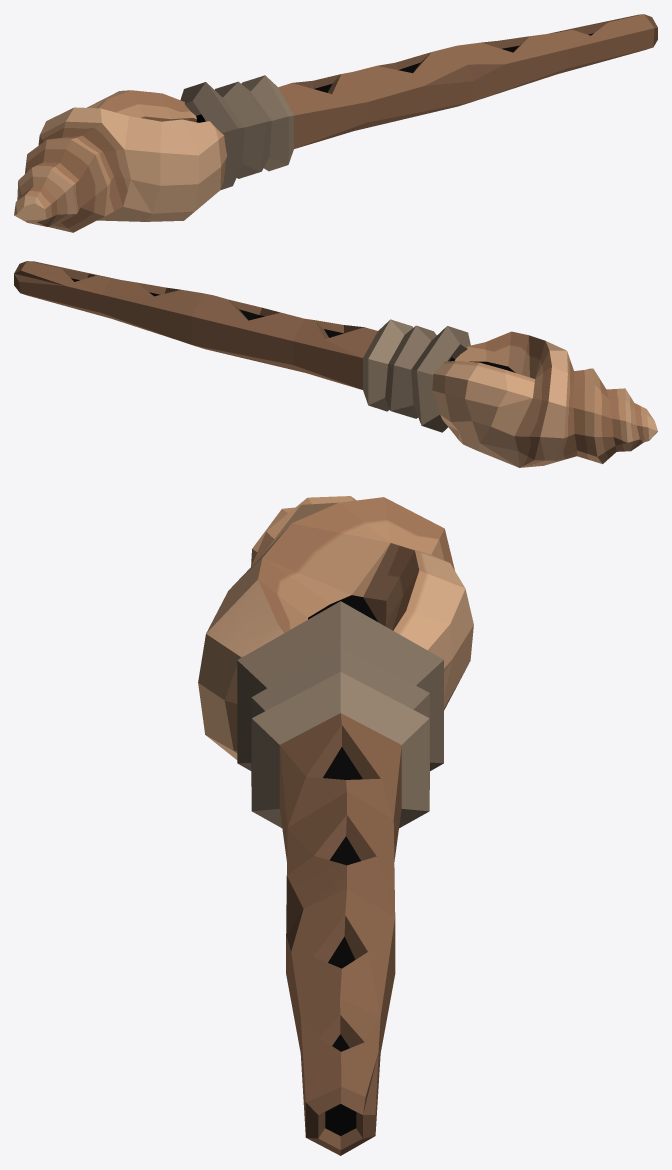
Rendered from SM_Prop_Flute_02.fbx.
The picture shows the model from 3 angles, top to bottom: view 1: azimuth 30°, elevation 25°; view 2: azimuth 150°, elevation 25°; view 3: azimuth 270°, elevation 25°; orthographic projection. The views are drawn at different scales.
Visible parts, largest first — view 1: SM_Prop_Flute_02; view 2: SM_Prop_Flute_02; view 3: SM_Prop_Flute_02.
Boxes of the visible parts, bbox=[...] form: SM_Prop_Flute_02: bbox=[14, 14, 657, 232]; SM_Prop_Flute_02: bbox=[14, 261, 657, 467]; SM_Prop_Flute_02: bbox=[198, 496, 473, 1155].
Bounding box in the file's own units: 86.36 × 14.87 × 16.55.
